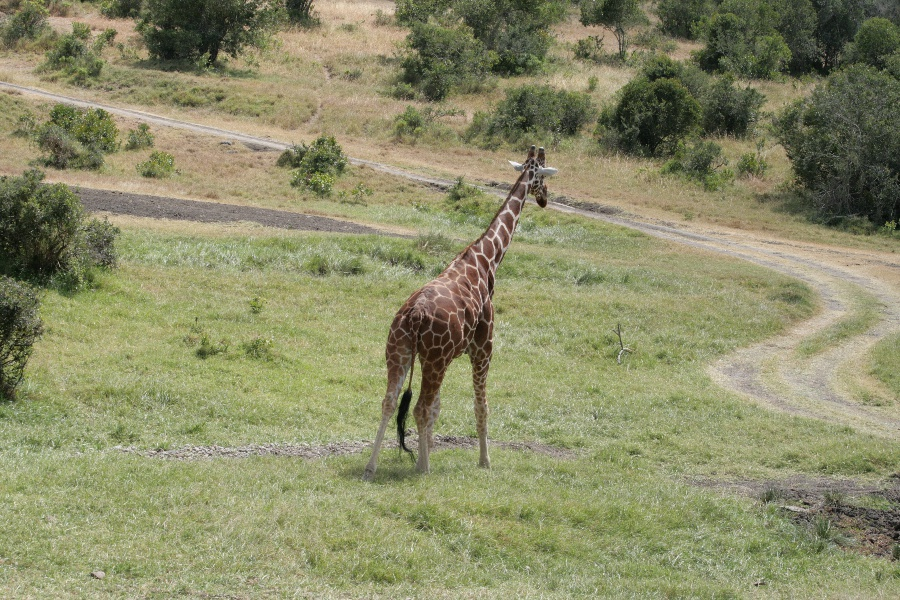giraffe: (352, 134, 561, 484)
